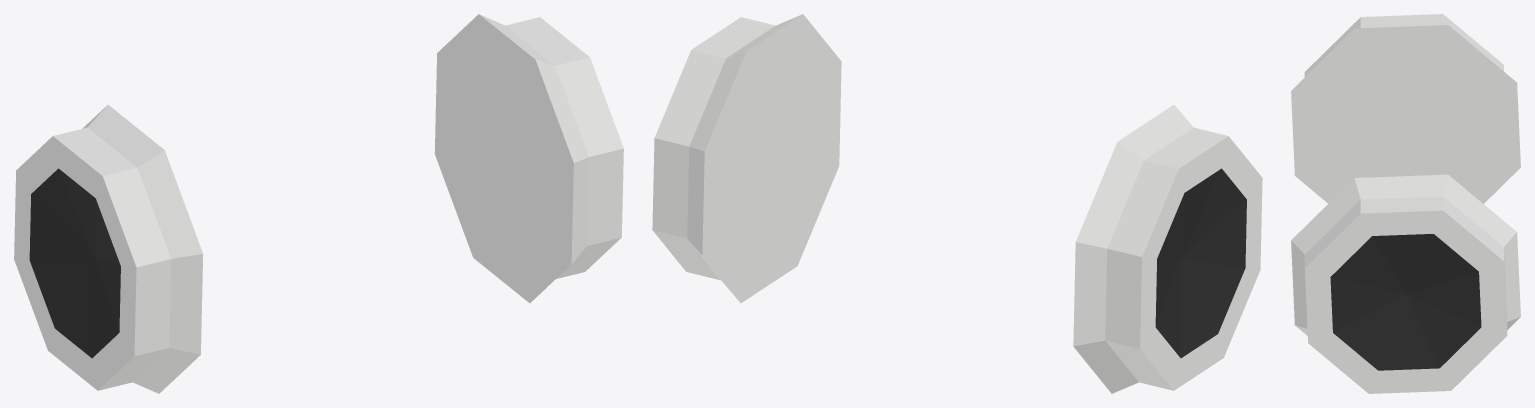
The model's file is train-speed-wagon-wheel_F1.glb.
The picture shows the model from 3 angles, left to right: view 1: azimuth 30°, elevation 25°; view 2: azimuth 150°, elevation 25°; view 3: azimuth 270°, elevation 25°; orthographic projection. The views are drawn at different scales.
Parts seen in each view (by area): view 1: train-speed-wagon-wheel_F1; view 2: train-speed-wagon-wheel_F1; view 3: train-speed-wagon-wheel_F1.
Boxes of the visible parts, x1,y1,x2,y2 form: train-speed-wagon-wheel_F1: (14,14,623,393); train-speed-wagon-wheel_F1: (652,14,1262,393); train-speed-wagon-wheel_F1: (1291,14,1520,393).
Bounding box in the file's own units: 1.64 × 0.8091 × 0.8091.
1 material, 1 textured.
